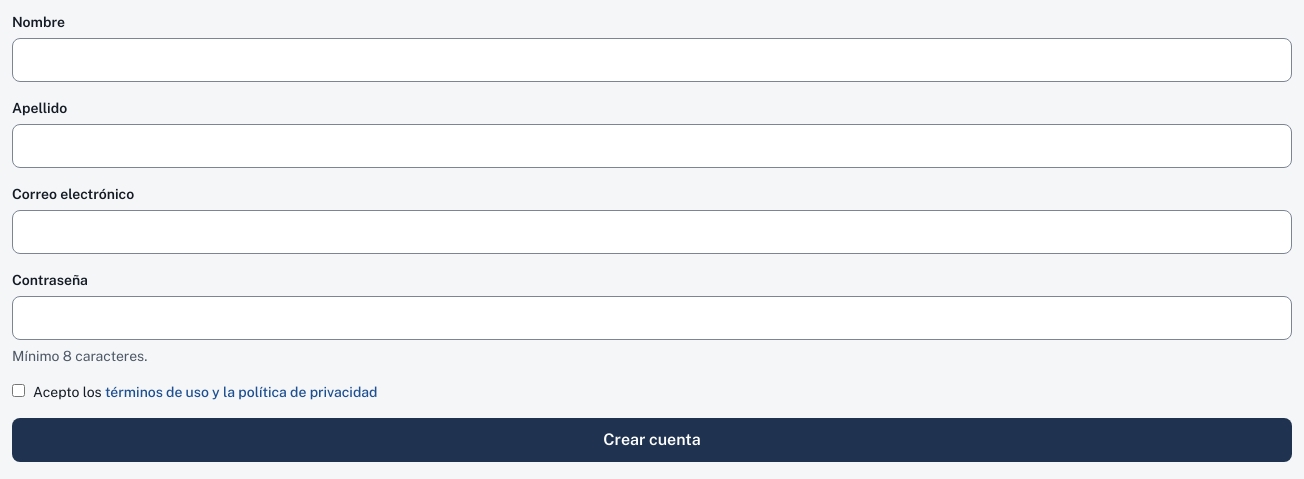
Test: FormularioRegistro (NC-07b) › con la casilla marcada envía y enlaza a /privacidad
Type "Ana" into the field labelled "Nombre" at {"x": 652, "y": 60}, box [12,38,1292,82]
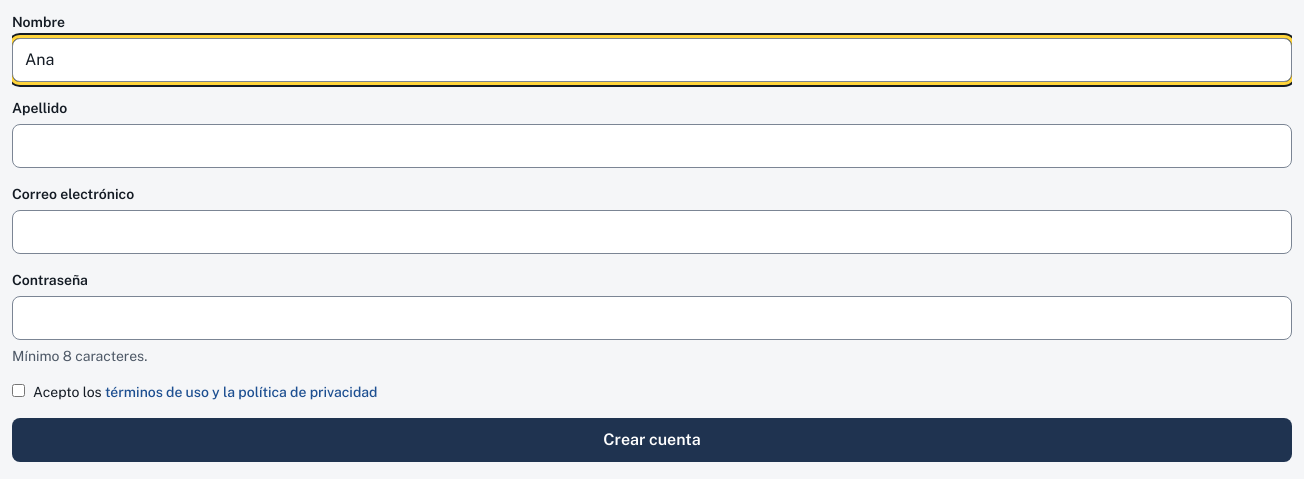
Type "Ruiz" into the field labelled "Apellido" at {"x": 652, "y": 146}, box [12,124,1292,168]
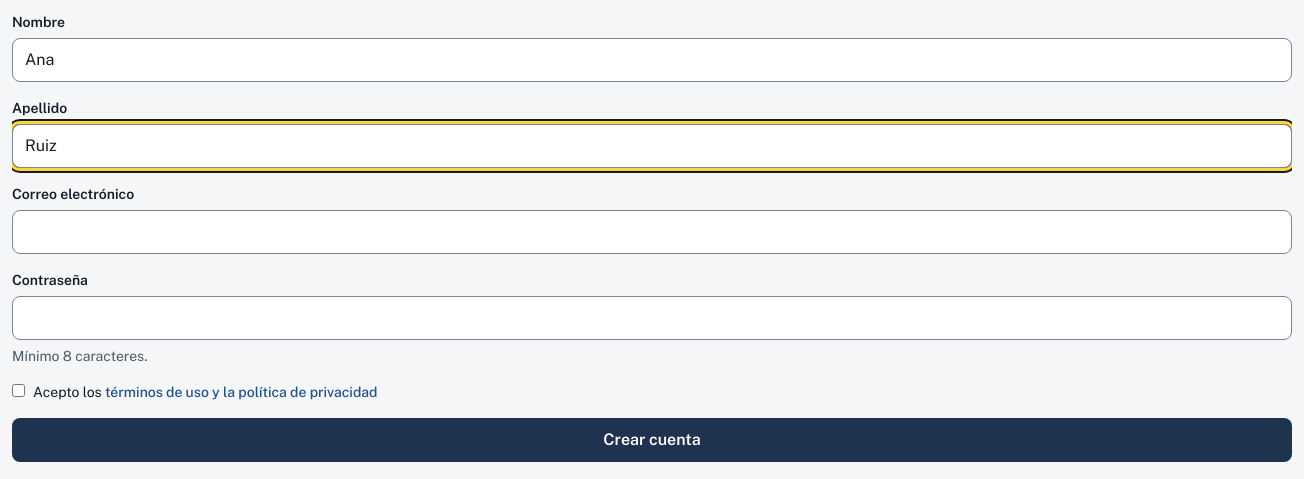
Type "ana@lima.pe" into the field labelled "Correo electrónico" at {"x": 652, "y": 232}, box [12,210,1292,254]
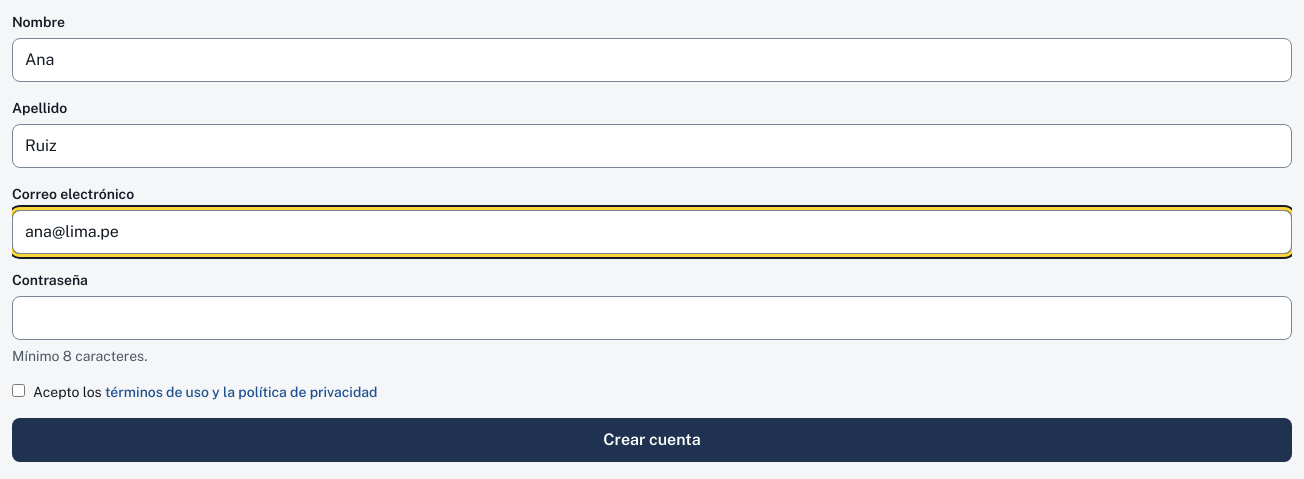
Type "secreta123" into the password field labelled "Contraseña" at {"x": 652, "y": 318}, box [12,296,1292,340]
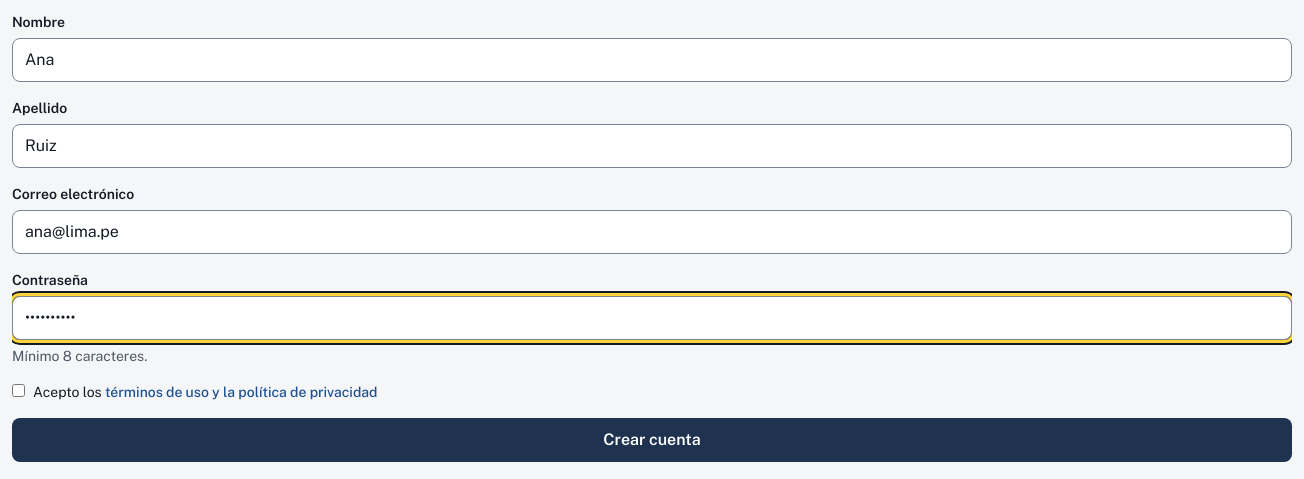
Click the checkbox at {"x": 18, "y": 390}, box [12,384,25,397]
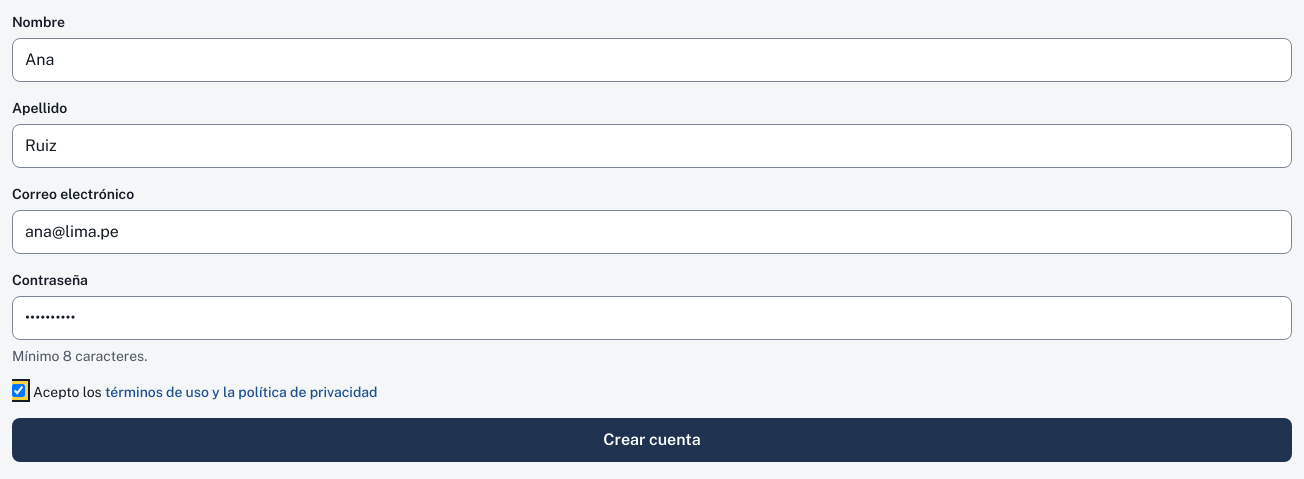
Click the button "Crear cuenta" at {"x": 652, "y": 440}, box [12,418,1292,462]
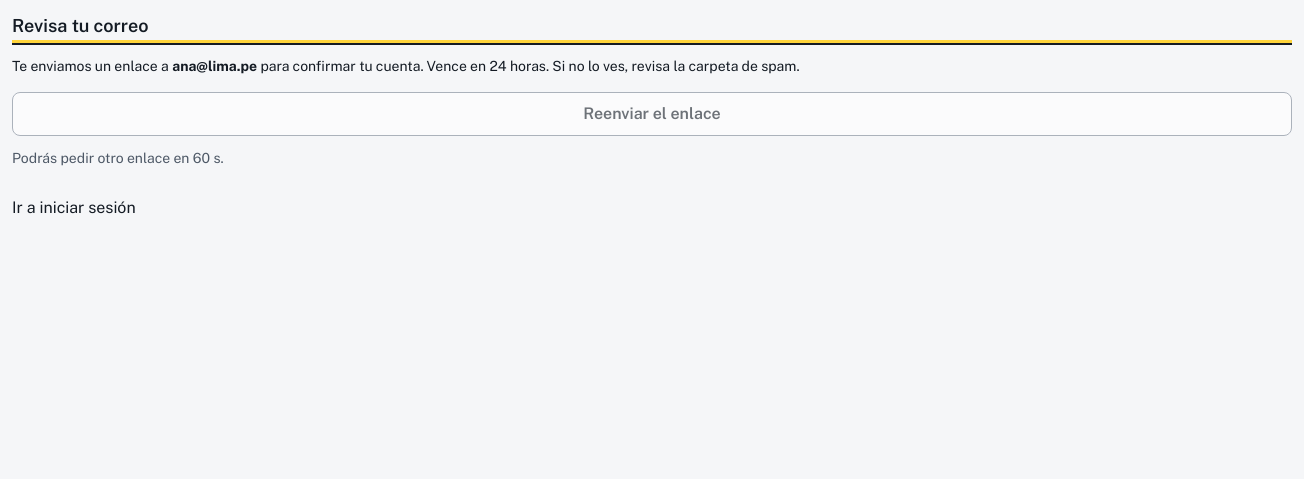
Check: the heading "Revisa tu correo" is shown, box [12,12,1292,40]
